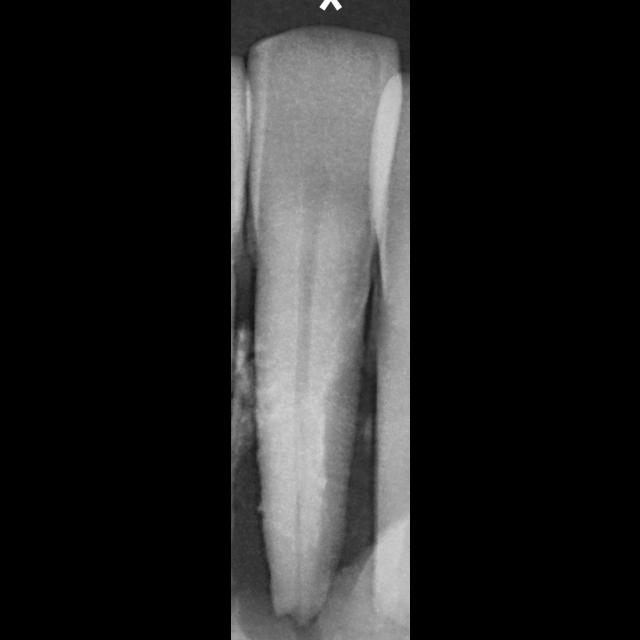tooth: (247, 26, 402, 628)
